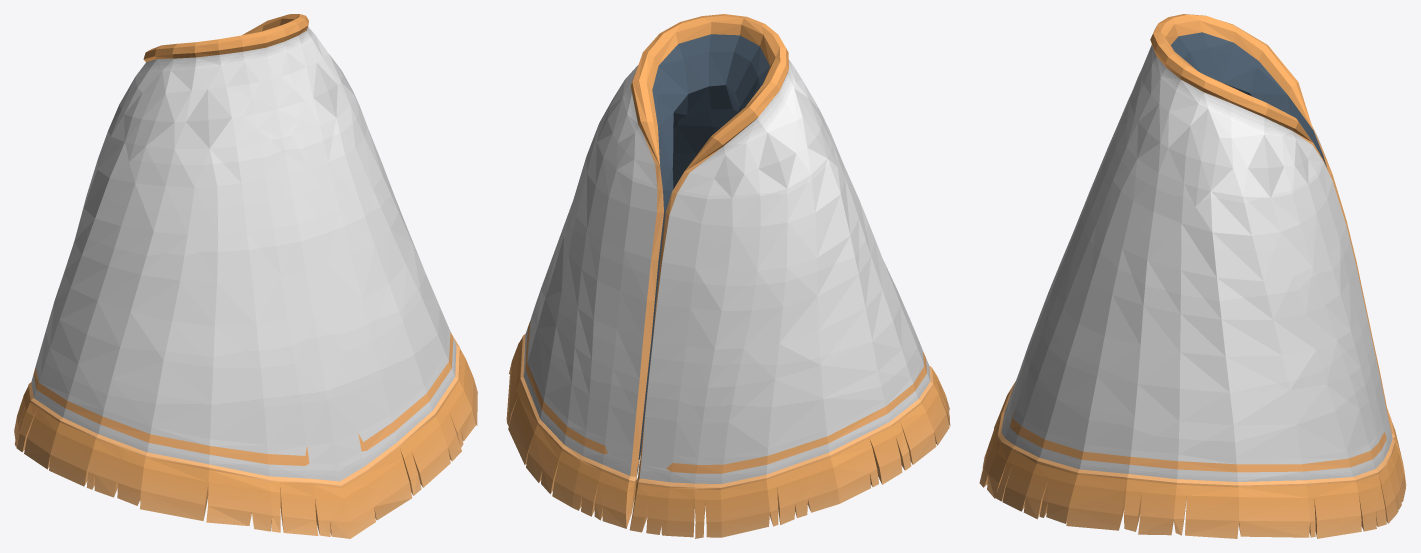
The model's file is CharSkyKid_Wing_AP04Elder_01.glb.
The picture shows the model from 3 angles, left to right: view 1: azimuth 30°, elevation 25°; view 2: azimuth 150°, elevation 25°; view 3: azimuth 270°, elevation 25°; orthographic projection. The views are drawn at different scales.
Visible parts, largest first — view 1: CharSkyKid_Wing_AP04Elder_01; view 2: CharSkyKid_Wing_AP04Elder_01; view 3: CharSkyKid_Wing_AP04Elder_01.
Boxes of the visible parts, bbox=[...] form: CharSkyKid_Wing_AP04Elder_01: bbox=[14, 14, 477, 538]; CharSkyKid_Wing_AP04Elder_01: bbox=[506, 14, 950, 538]; CharSkyKid_Wing_AP04Elder_01: bbox=[979, 14, 1406, 538].
Bounding box in the file's own units: 6.73 × 6.91 × 5.88.
1 material, 1 textured.
